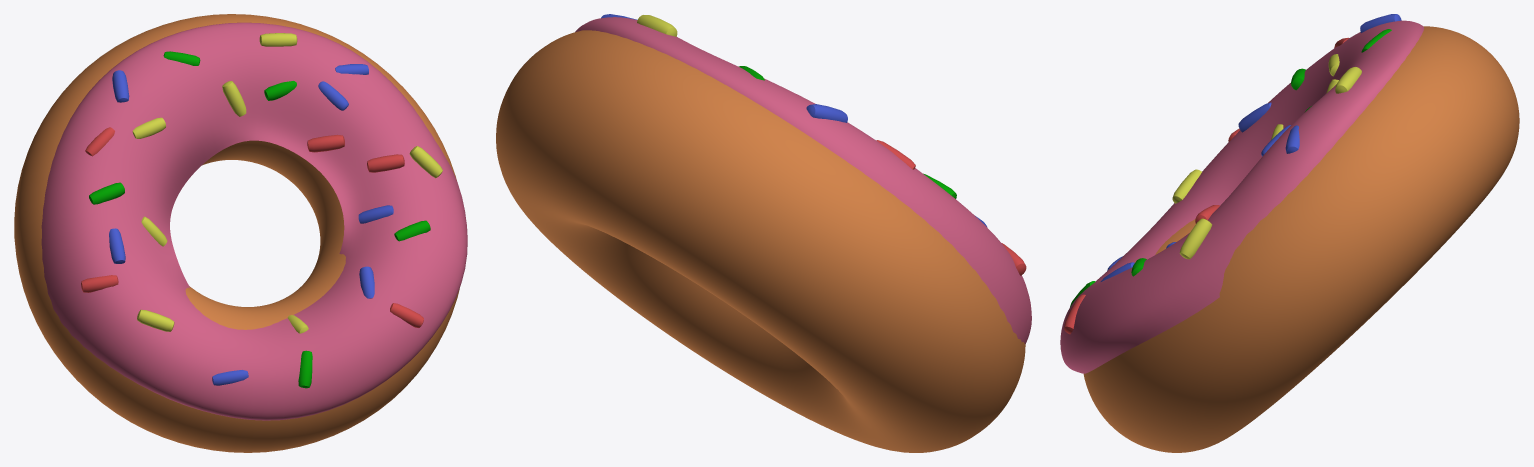
File: Donut.dae
3 views of the same model, side by side, from view 1: azimuth 30°, elevation 25°; view 2: azimuth 150°, elevation 25°; view 3: azimuth 270°, elevation 25° (orthographic). The views are drawn at different scales.
Parts seen in each view (by area): view 1: Donut1_mesh02, Donut1_mesh01, Donut1_mesh11, Donut1_mesh25, Donut1_mesh06, Donut1_mesh26, Donut1_mesh04, Donut1_mesh17, Donut1_mesh03, Donut1_mesh18, Donut1_mesh14, Donut1_mesh10 (+3 smaller); view 2: Donut1_mesh01, Donut1_mesh02; view 3: Donut1_mesh01, Donut1_mesh02, Donut1_mesh26.
Part boxes in pixels (box(x1,y1,x2,y2)): Donut1_mesh02: box(41, 22, 467, 420); Donut1_mesh01: box(14, 14, 459, 452); Donut1_mesh11: box(367, 154, 404, 172); Donut1_mesh25: box(307, 134, 344, 152); Donut1_mesh06: box(137, 309, 174, 331); Donut1_mesh26: box(409, 146, 442, 178); Donut1_mesh04: box(222, 81, 246, 116); Donut1_mesh17: box(259, 33, 297, 46); Donut1_mesh03: box(89, 182, 124, 204); Donut1_mesh18: box(81, 275, 118, 292); Donut1_mesh14: box(109, 228, 125, 263); Donut1_mesh10: box(298, 350, 312, 388); Donut1_mesh01: box(496, 30, 1025, 452); Donut1_mesh02: box(575, 17, 1031, 344); Donut1_mesh01: box(1083, 26, 1519, 452); Donut1_mesh02: box(1060, 20, 1423, 373); Donut1_mesh26: box(1179, 218, 1212, 259).
Size of the model in its own units: 13.52 by 11.42 by 11.89.
